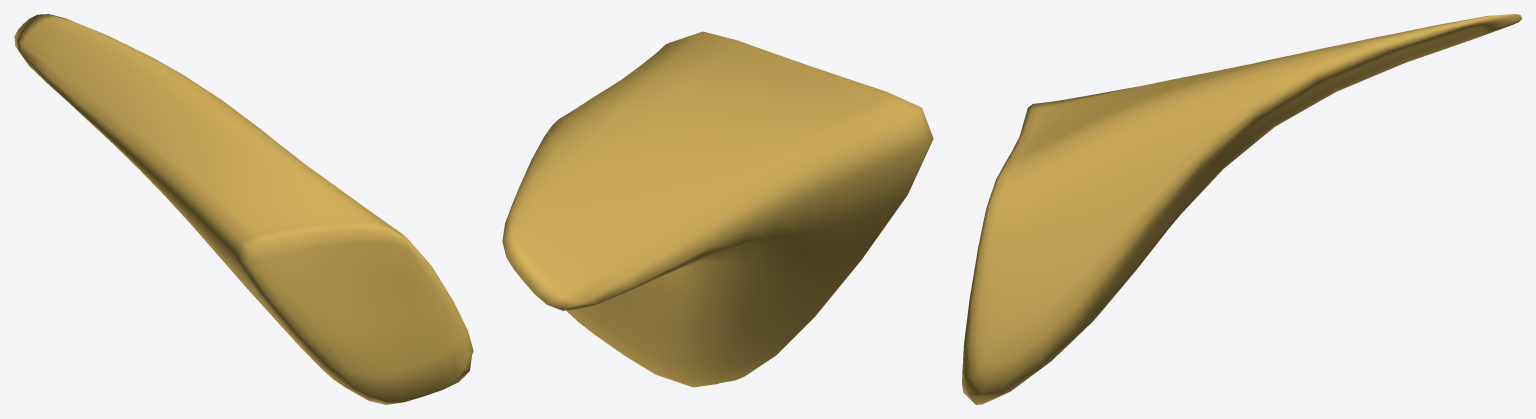
The model's file is Infrapatellar_fat_pad.l_Plane.202.glb.
3 views of the same model, side by side, from view 1: azimuth 30°, elevation 25°; view 2: azimuth 150°, elevation 25°; view 3: azimuth 270°, elevation 25° (orthographic). The views are drawn at different scales.
Visible parts, largest first — view 1: Infrapatellar_fat_pad.l_Plane.202; view 2: Infrapatellar_fat_pad.l_Plane.202; view 3: Infrapatellar_fat_pad.l_Plane.202.
Boxes of the visible parts, x1,y1,x2,y2 form: Infrapatellar_fat_pad.l_Plane.202: [14, 14, 473, 404]; Infrapatellar_fat_pad.l_Plane.202: [502, 31, 933, 387]; Infrapatellar_fat_pad.l_Plane.202: [962, 14, 1521, 404].
Size of the model in its own units: 0.0136 by 0.0146 by 0.0245.
